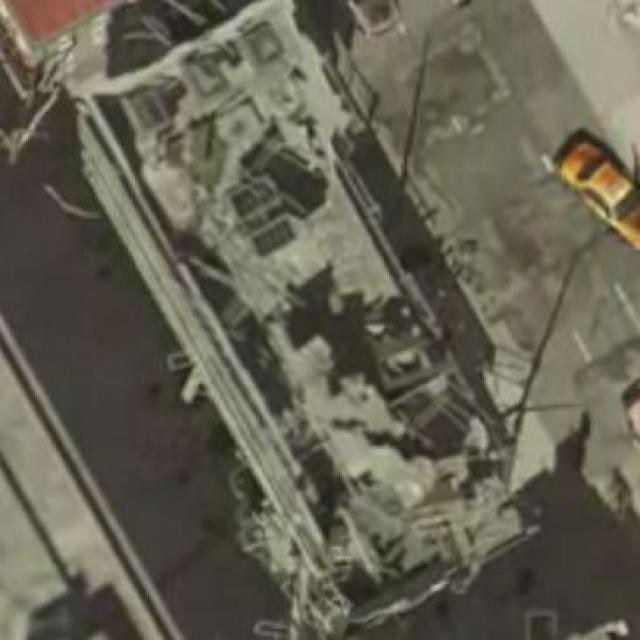collapsed_building: (103, 29, 526, 600)
